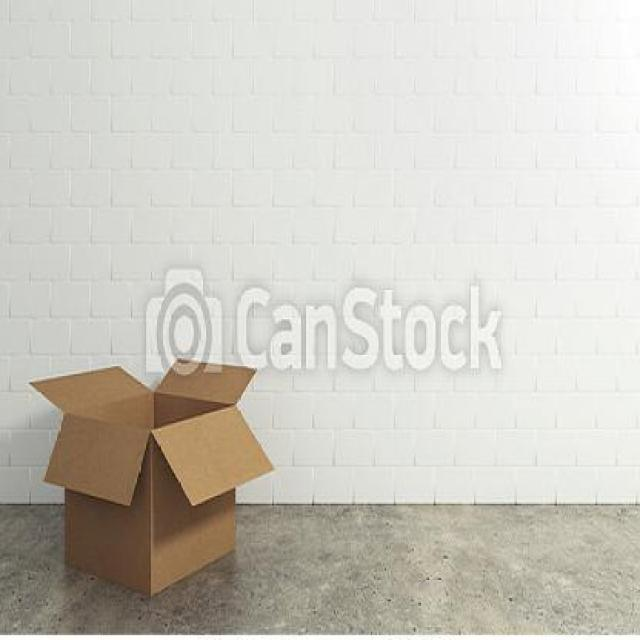box: (26, 344, 302, 626)
